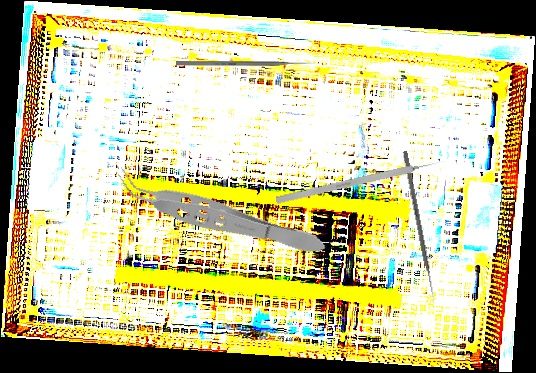Hook Surgical: (275, 157, 446, 205)
Pusher: (402, 150, 437, 305), (176, 61, 316, 66)
Tissue Forceps: (107, 165, 332, 265)
